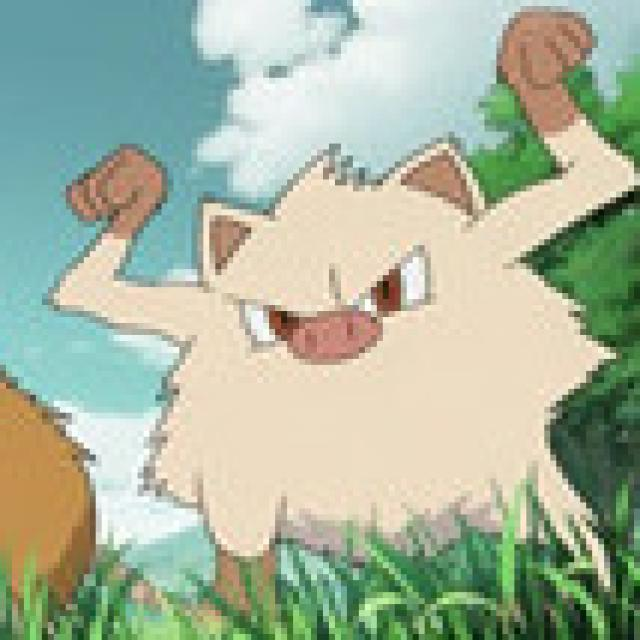Mankey: (94, 110, 598, 587)
